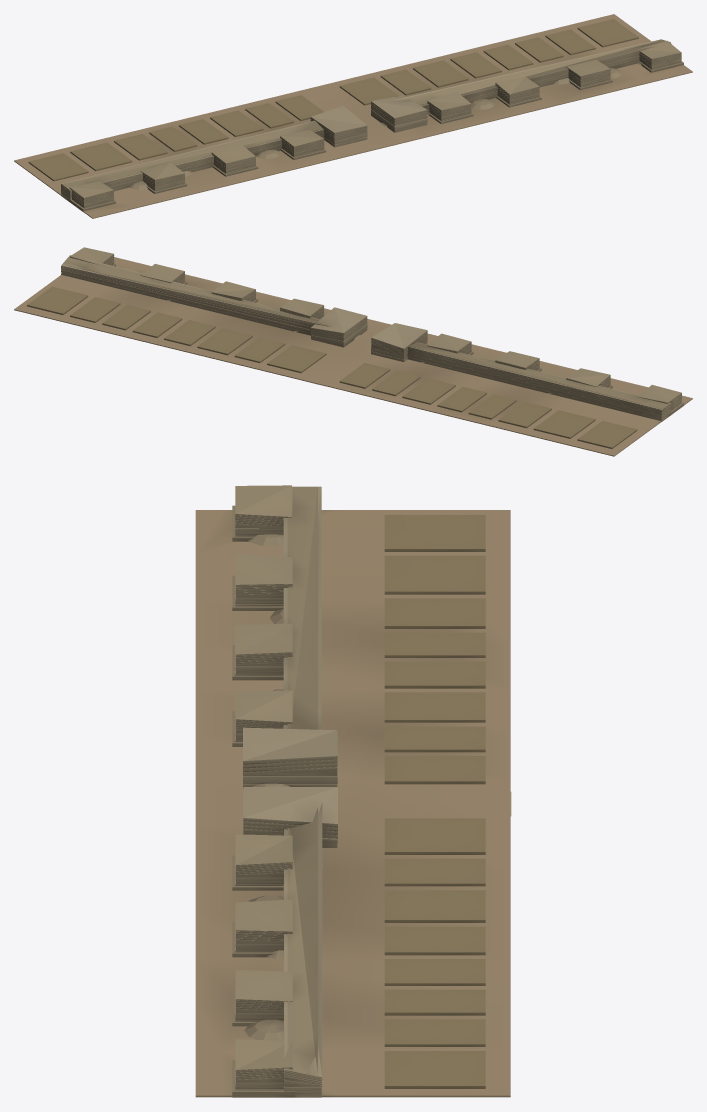
The model's file is sirkap-wall-ruin.glb.
3 renders of one model, top to bottom at view 1: azimuth 30°, elevation 25°; view 2: azimuth 150°, elevation 25°; view 3: azimuth 270°, elevation 25°, orthographic. The views are drawn at different scales.
Parts seen in each view (by area): view 1: p0_ground, p1_wall and bastions, p3_main street, p2_north gate; view 2: p0_ground, p1_wall and bastions, p3_main street, p2_north gate; view 3: p0_ground, p3_main street, p1_wall and bastions, p2_north gate.
Part boxes in pixels (x1=…): p0_ground: x1=14, y1=14, x2=692, y2=218; p1_wall and bastions: x1=61, y1=39, x2=683, y2=212; p3_main street: x1=28, y1=19, x2=638, y2=181; p2_north gate: x1=114, y1=62, x2=641, y2=196; p0_ground: x1=14, y1=257, x2=692, y2=456; p1_wall and bastions: x1=61, y1=247, x2=683, y2=421; p3_main street: x1=27, y1=286, x2=637, y2=448; p2_north gate: x1=167, y1=300, x2=551, y2=393; p0_ground: x1=195, y1=510, x2=510, y2=1097; p3_main street: x1=384, y1=515, x2=511, y2=1088; p1_wall and bastions: x1=232, y1=485, x2=322, y2=1097; p2_north gate: x1=243, y1=534, x2=337, y2=1040.
Size of the model in its own units: 220 by 6.21 by 50.08.
